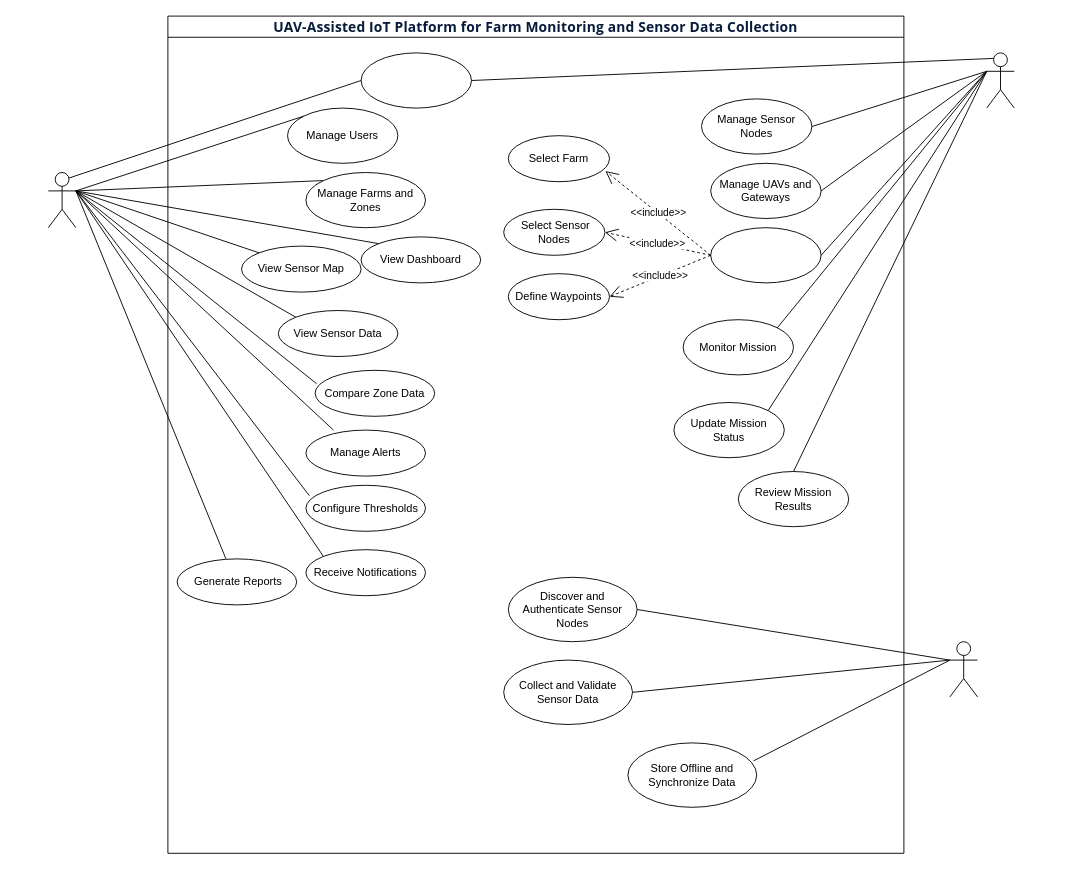
Some shapes in this 1080 by 869 pixel diagram are drawn without their labels. Here are the shapes that lost their labels. From the top down, the box of each, then its label:
(360, 52, 472, 108): Login/Logout
(986, 52, 1014, 108): UAV and Device Operator
(47, 172, 76, 228): Farm Administrator
(710, 227, 821, 283): Create Mission
(949, 641, 978, 697): Sensor Collection Engine
